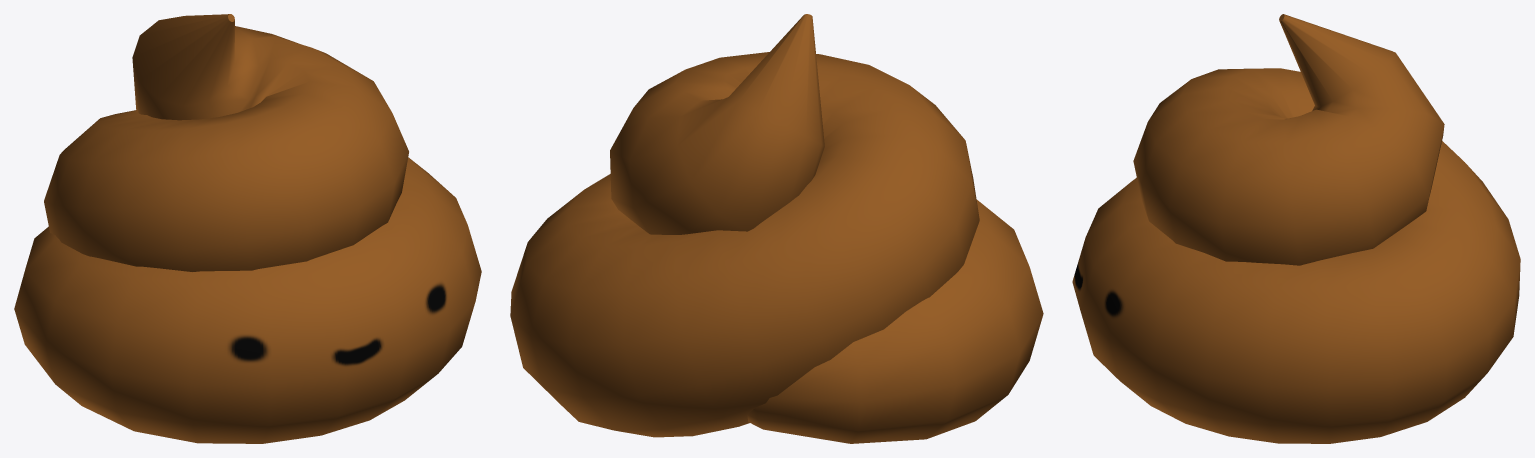
File: PooFriend-002.fbx
3 renders of one model, left to right at view 1: azimuth 30°, elevation 25°; view 2: azimuth 150°, elevation 25°; view 3: azimuth 270°, elevation 25°, orthographic. The views are drawn at different scales.
Parts seen in each view (by area): view 1: PooFriend-002; view 2: PooFriend-002; view 3: PooFriend-002.
Part boxes in pixels (<box>): PooFriend-002: <box>14,14,481,443</box>; PooFriend-002: <box>510,14,1043,443</box>; PooFriend-002: <box>1072,14,1520,443</box>.
Size of the model in its own units: 1.04 by 0.8684 by 0.9946.
Materials: 1 (1 with a texture image).
